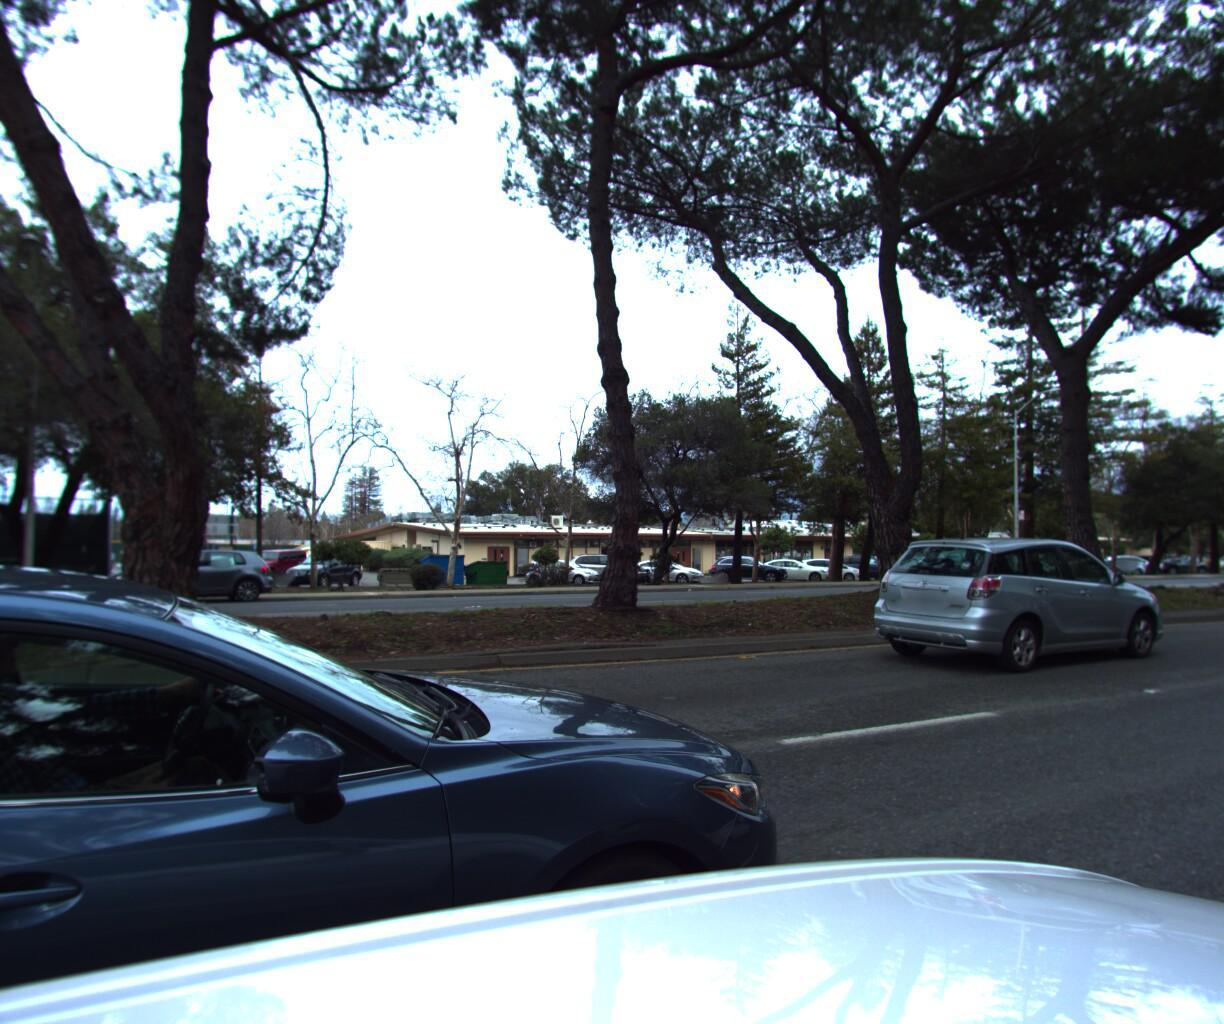car: (0, 553, 860, 1024), (857, 517, 1199, 681), (94, 545, 285, 612)
